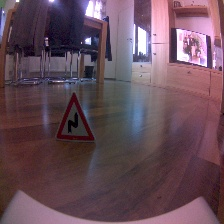vorsicht: (52, 90, 97, 144)
